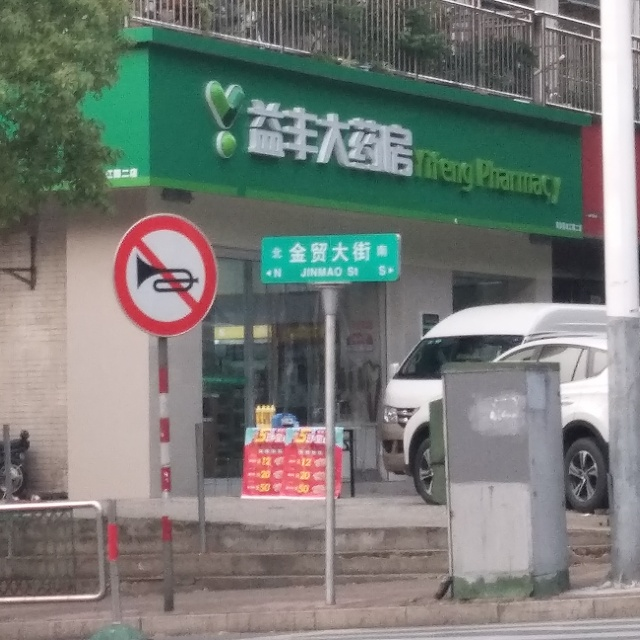nohonk: (110, 210, 220, 339)
